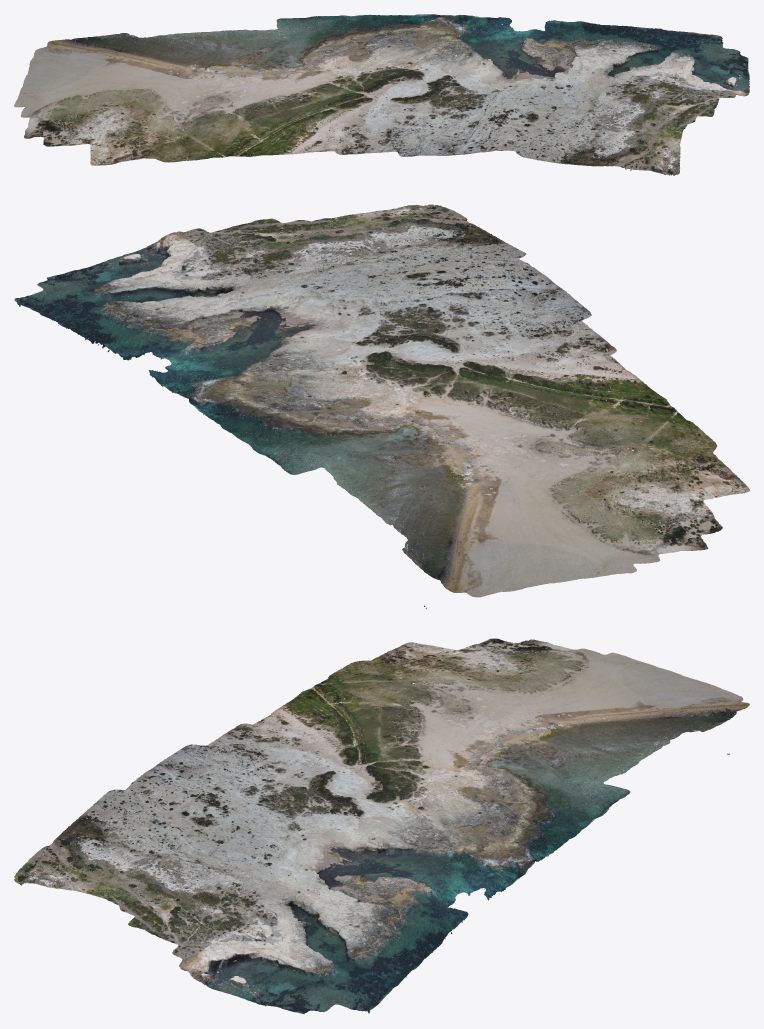
File: sf-fossil-beach-spain-2f8c40.glb
3 views of the same model, one above another, from view 1: azimuth 30°, elevation 25°; view 2: azimuth 150°, elevation 25°; view 3: azimuth 270°, elevation 25° (orthographic). The views are drawn at different scales.
Visible parts, largest first — view 1: Object_2, Object_3, Object_4, Object_5, Object_6, Object_7; view 2: Object_3, Object_2, Object_4, Object_5, Object_6, Object_7; view 3: Object_4, Object_2, Object_3, Object_5, Object_6, Object_7.
Part boxes in pixels (x1=…): Object_2: x1=53, y1=14, x2=749, y2=166; Object_3: x1=14, y1=14, x2=749, y2=168; Object_4: x1=47, y1=15, x2=737, y2=175; Object_5: x1=25, y1=14, x2=749, y2=172; Object_6: x1=24, y1=15, x2=748, y2=174; Object_7: x1=21, y1=15, x2=748, y2=175; Object_3: x1=54, y1=228, x2=704, y2=597; Object_2: x1=19, y1=207, x2=716, y2=608; Object_4: x1=42, y1=204, x2=741, y2=532; Object_5: x1=20, y1=208, x2=749, y2=572; Object_6: x1=14, y1=205, x2=747, y2=578; Object_7: x1=19, y1=206, x2=744, y2=588; Object_4: x1=14, y1=643, x2=700, y2=1011; Object_2: x1=35, y1=652, x2=729, y2=1005; Object_3: x1=27, y1=646, x2=749, y2=1008; Object_5: x1=24, y1=638, x2=729, y2=1011; Object_6: x1=19, y1=639, x2=735, y2=1013; Object_7: x1=19, y1=640, x2=733, y2=1013.
Bounding box in the file's own units: 10.06 × 0.9178 × 8.46.
Materials: 6 (6 with a texture image).
